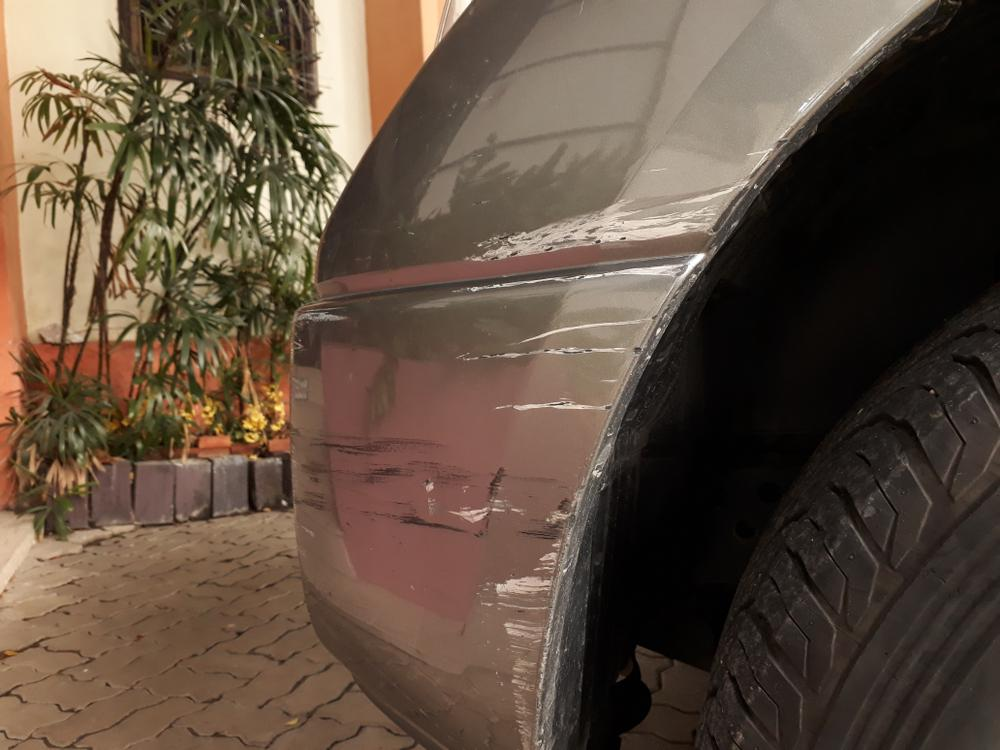scratch: (285, 182, 744, 750)
